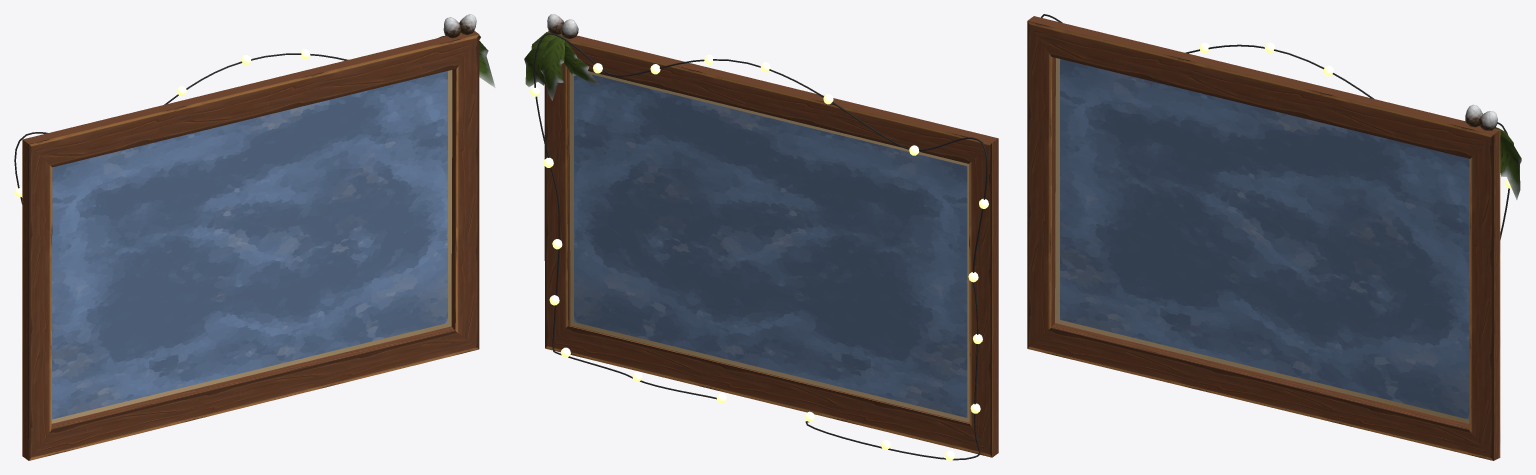
Rendered from menu_bg.glb.
3 renders of one model, left to right at view 1: azimuth 30°, elevation 25°; view 2: azimuth 150°, elevation 25°; view 3: azimuth 330°, elevation 25°, orthographic. The views are drawn at different scales.
Parts seen in each view (by area): view 1: leaderboard; view 2: leaderboard; view 3: leaderboard.
Part boxes in pixels (x1,y1,x2,y2): leaderboard: [14, 14, 495, 460]; leaderboard: [524, 14, 998, 460]; leaderboard: [1027, 14, 1521, 460].
Size of what is drawn, in the model's own units: 6.61 by 4.62 by 0.675.
Materials: 4 (3 with a texture image).
